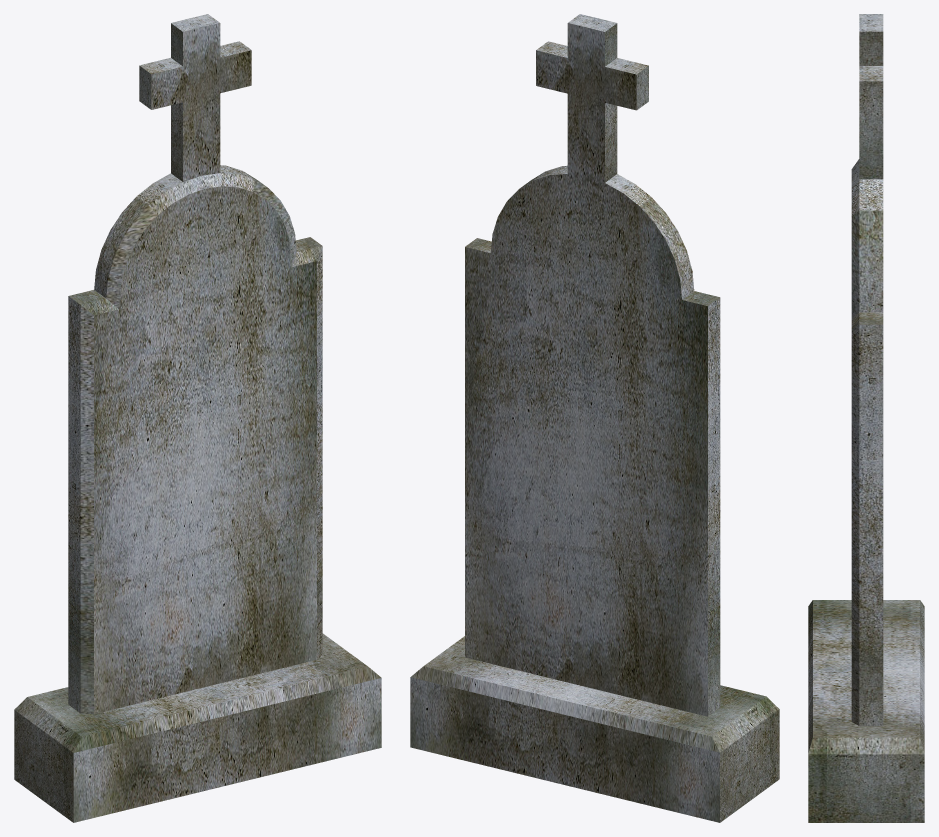
Rendered from GraveStoneSmallCross.fbx.
The picture shows the model from 3 angles, left to right: view 1: azimuth 30°, elevation 25°; view 2: azimuth 150°, elevation 25°; view 3: azimuth 270°, elevation 25°; orthographic projection. The views are drawn at different scales.
Visible parts, largest first — view 1: gravestone3; view 2: gravestone3; view 3: gravestone3.
Part boxes in pixels (left/top/right/bottom): gravestone3: left=14, top=14, right=381, bottom=822; gravestone3: left=410, top=14, right=779, bottom=822; gravestone3: left=808, top=14, right=924, bottom=822.
Bounding box in the file's own units: 19.98 × 45.78 × 6.65.
